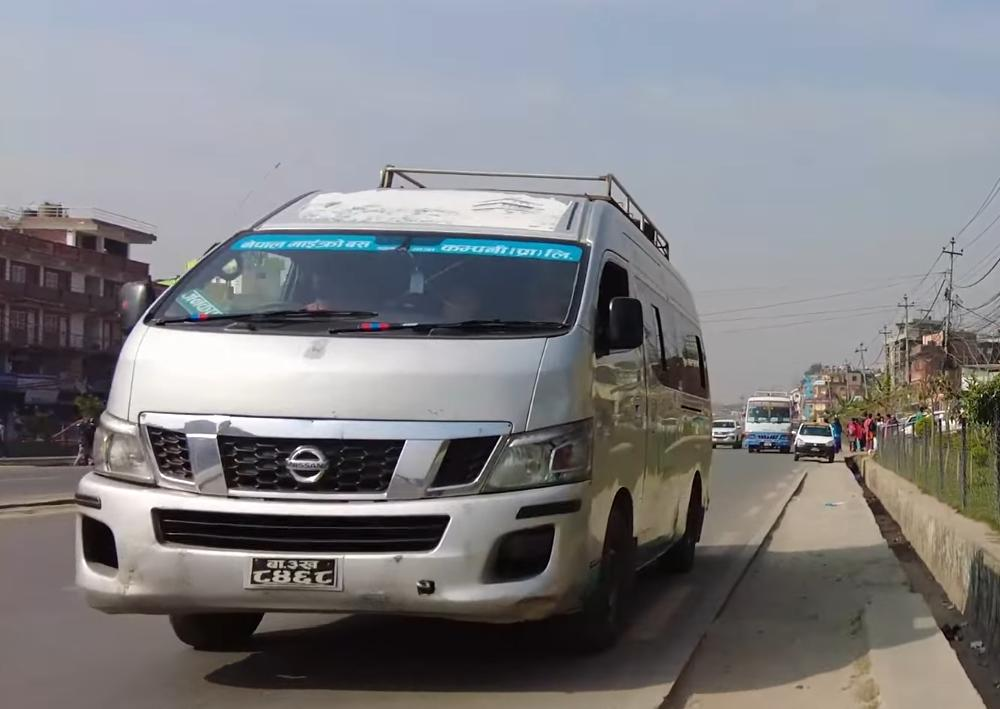bus: (746, 388, 795, 457)
micro_bus: (65, 160, 727, 646)
taxi: (791, 416, 841, 467)
